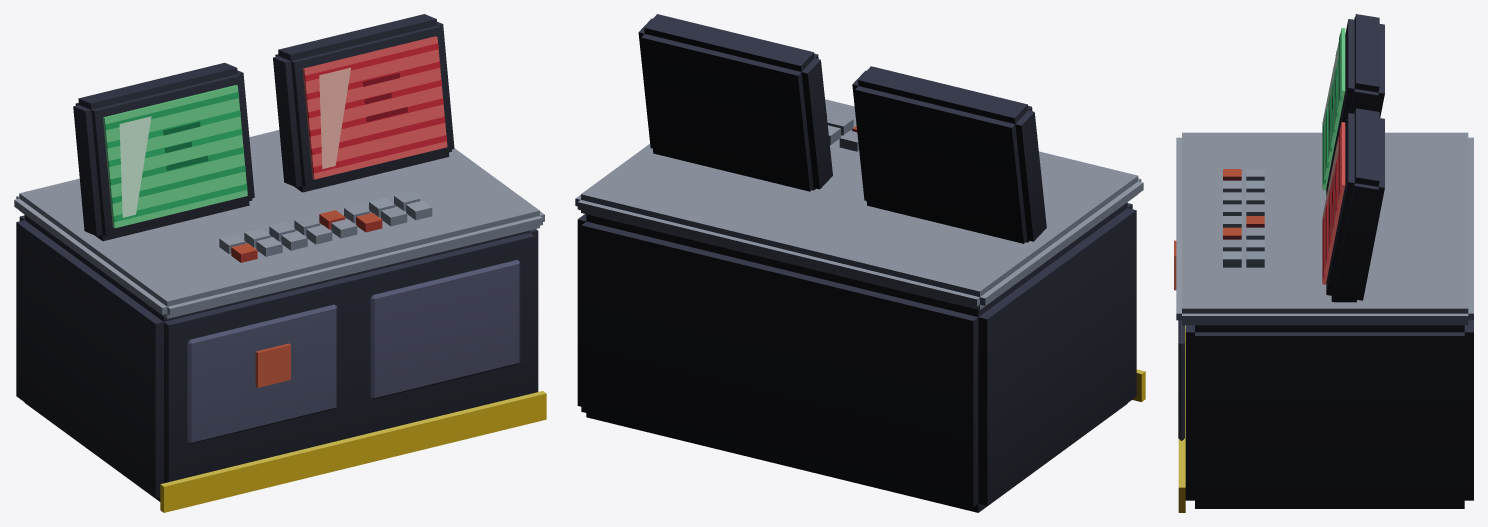
Rendered from rocket_console.glb.
3 renders of one model, left to right at view 1: azimuth 30°, elevation 25°; view 2: azimuth 150°, elevation 25°; view 3: azimuth 270°, elevation 25°, orthographic. The views are drawn at different scales.
Visible parts, largest first — view 1: rocket_console; view 2: rocket_console; view 3: rocket_console.
Boxes of the visible parts, box(x1,y1,x2,y2) form: rocket_console: box(14, 14, 546, 512); rocket_console: box(575, 14, 1145, 512); rocket_console: box(1174, 14, 1473, 512).
Bounding box in the file's own units: 0.92 × 0.7765 × 0.645.
